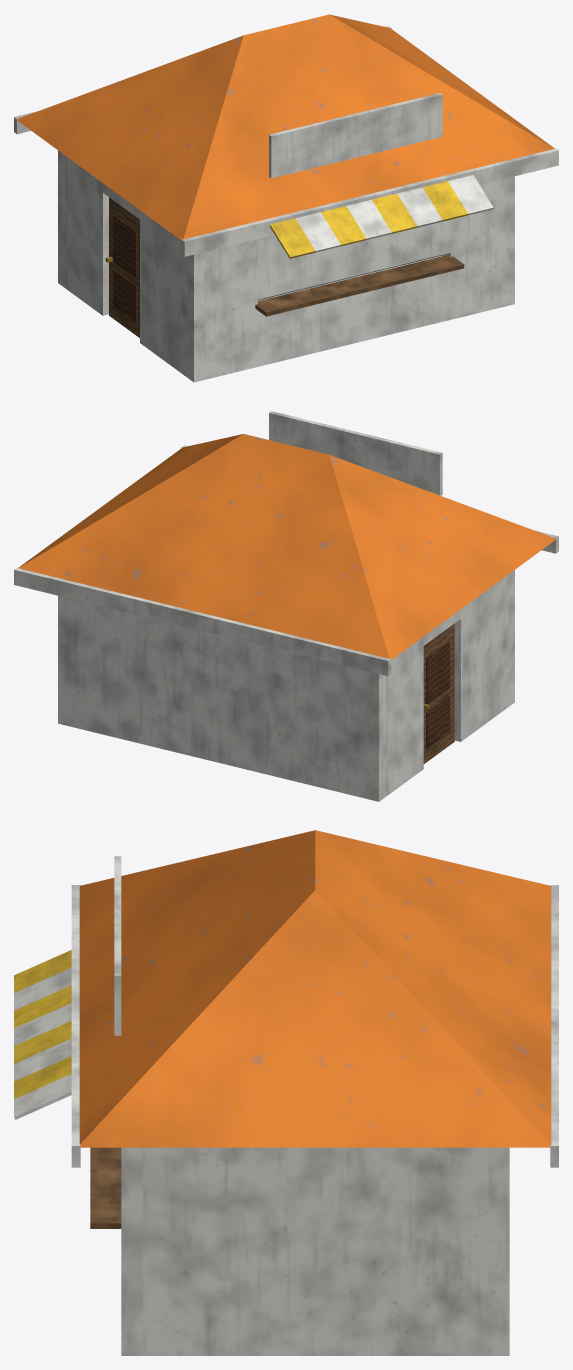
The model's file is Kiosk_Yellow.fbx.
3 renders of one model, top to bottom at view 1: azimuth 30°, elevation 25°; view 2: azimuth 150°, elevation 25°; view 3: azimuth 270°, elevation 25°, orthographic. The views are drawn at different scales.
Parts seen in each view (by area): view 1: Roof, Walls, Awning_Sign, Counter, Door_Kiosk_Yellow; view 2: Roof, Walls, Awning_Sign, Door_Kiosk_Yellow; view 3: Roof, Walls, Awning_Sign, Counter.
Part boxes in pixels (left/top/right/bottom): Roof: left=14, top=14, right=558, bottom=256; Walls: left=58, top=150, right=514, bottom=382; Awning_Sign: left=269, top=93, right=493, bottom=258; Counter: left=255, top=254, right=464, bottom=316; Door_Kiosk_Yellow: left=105, top=197, right=139, bottom=337; Roof: left=14, top=434, right=558, bottom=676; Walls: left=58, top=570, right=514, bottom=801; Awning_Sign: left=269, top=411, right=442, bottom=495; Door_Kiosk_Yellow: left=423, top=623, right=454, bottom=763; Roof: left=71, top=830, right=558, bottom=1167; Walls: left=121, top=1147, right=509, bottom=1355; Awning_Sign: left=14, top=856, right=121, bottom=1119; Counter: left=90, top=1147, right=121, bottom=1228.
Bounding box in the file's own units: 7 × 4.8 × 6.18.
